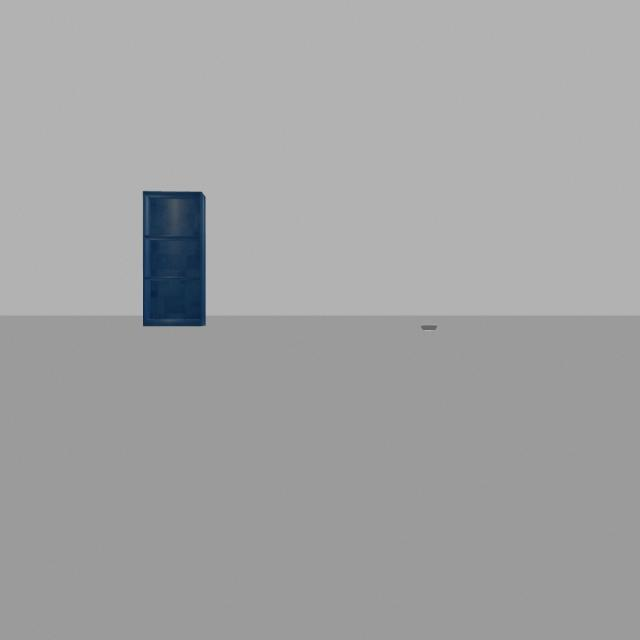bowl: (418, 317, 444, 340)
shelf: (133, 177, 218, 343)
